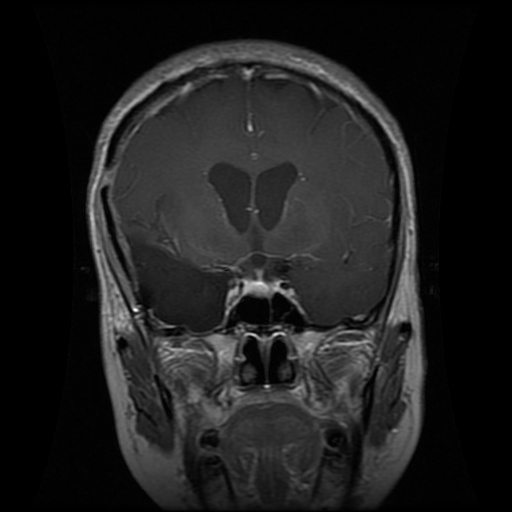glioma: (125, 225, 237, 330)
